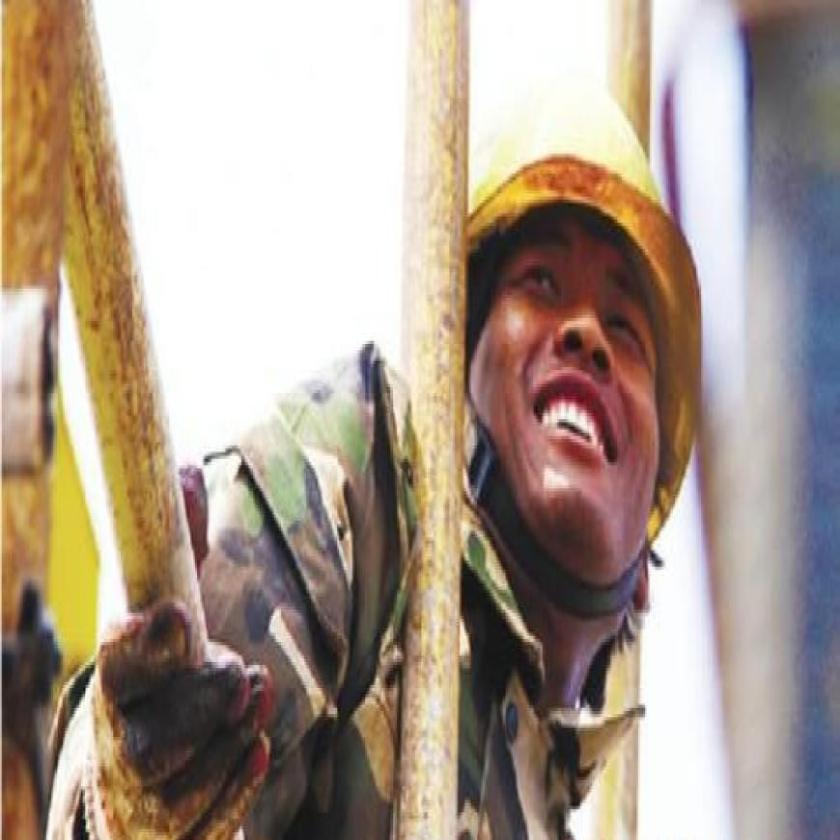Con_casco: (450, 72, 714, 658)
